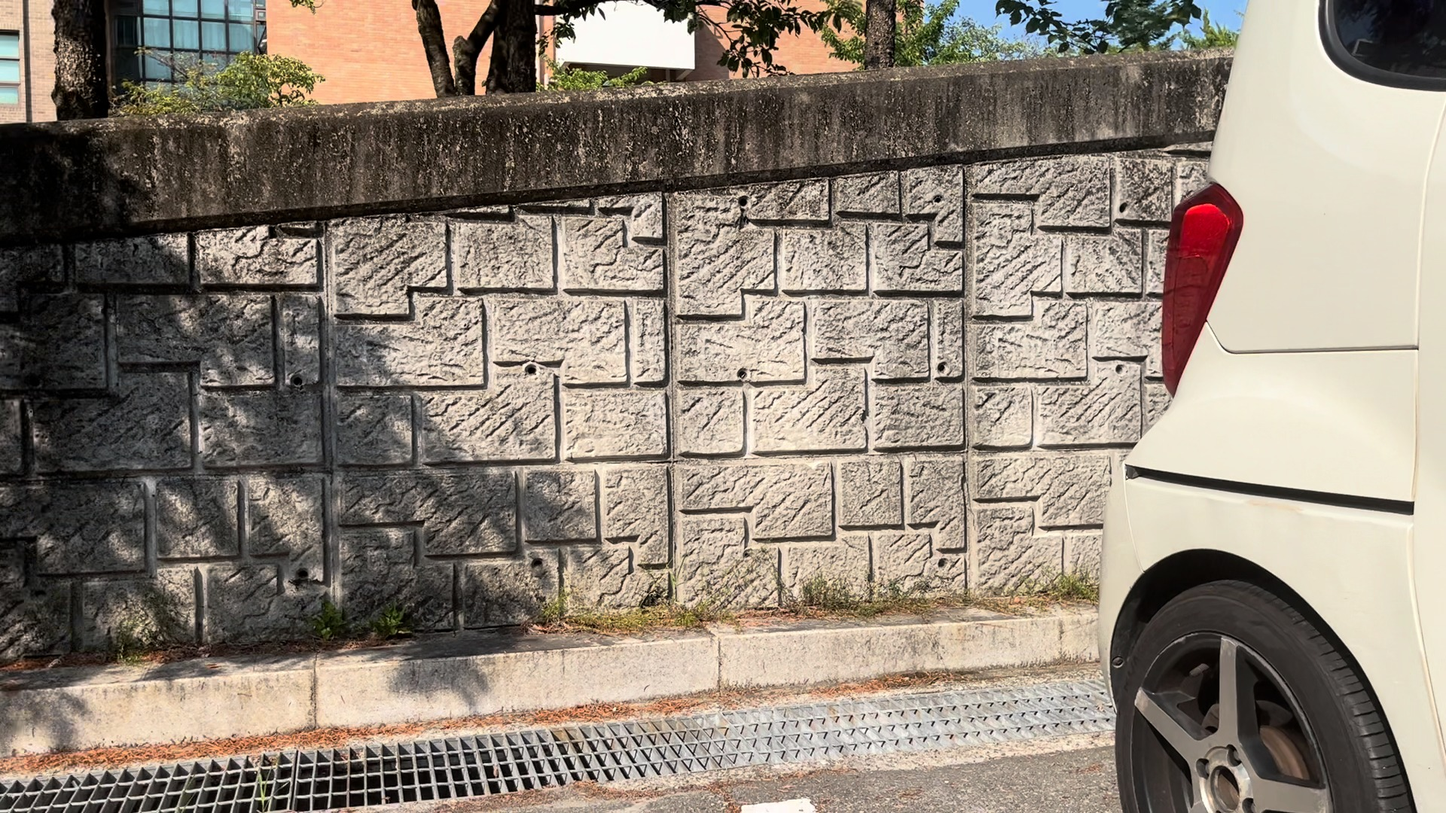tail_light: (1157, 182, 1239, 399)
